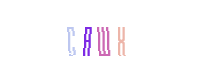A: (60, 0, 140, 80)
C: (47, 0, 127, 80)
W: (60, 0, 140, 80)
X: (63, 0, 143, 80)
